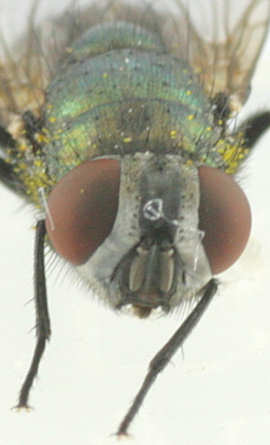green bottles flies: (11, 10, 259, 443)
